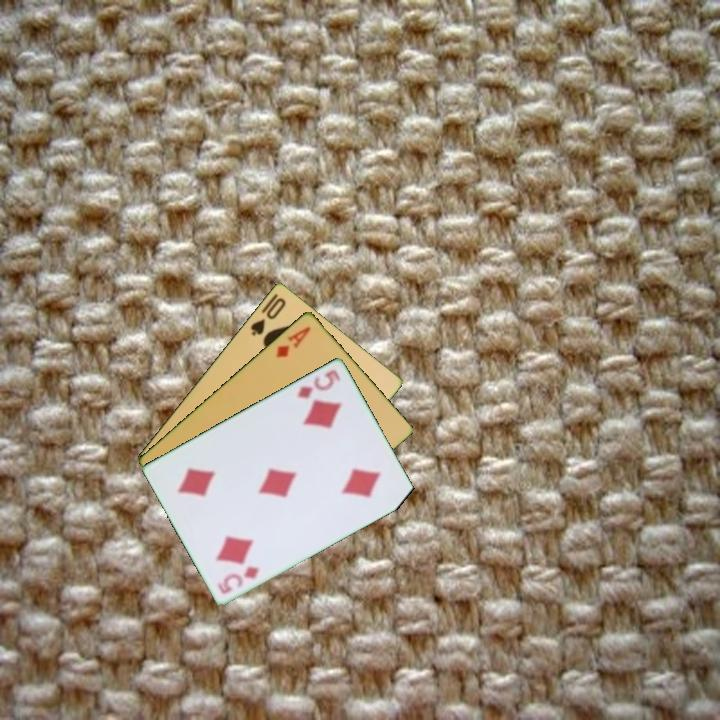10s: (247, 293, 289, 339)
5d: (293, 366, 344, 401), (214, 562, 262, 597)
Ad: (272, 322, 313, 360)
